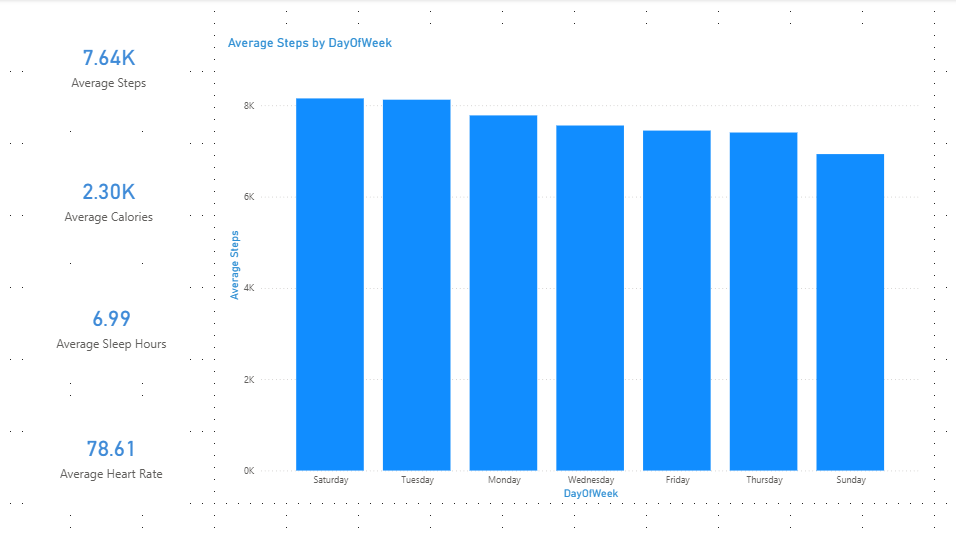

What the dashboard file says about the page in this screenshot:
{"tool":"powerbi","page":{"name":"Overview","canvas":[1280,720],"ordinal":0},"visuals":[{"type":"card","fields":{"Values":["daily_activity_clean.Average Steps"]},"box":[40,11.2,215,152.5],"z":0},{"type":"card","fields":{"Values":["daily_activity_clean.Average Calories"]},"box":[40,187.5,215,155],"z":1000},{"type":"card","fields":{"Values":["daily_activity_clean.Average Sleep Hours"]},"box":[46.2,360,208.8,148.8],"z":2000},{"type":"card","fields":{"Values":["daily_activity_clean.Average Heart Rate"]},"box":[46.2,532.5,208.8,151.2],"z":3000},{"type":"clusteredColumnChart","fields":{"Category":["daily_activity_clean.DayOfWeek"],"Y":["daily_activity_clean.Average Steps"]},"box":[301.2,47.5,933.8,623.8],"z":4000}]}

Visuals, with their boxes in screenshot pixels (x1, y1, x2, y2), scaled from the page's 1280x720 canvas onto the 956x539 screenshot:
card - daily_activity_clean.Average Steps: bbox(30, 8, 190, 123)
card - daily_activity_clean.Average Calories: bbox(30, 140, 190, 256)
card - daily_activity_clean.Average Sleep Hours: bbox(35, 270, 190, 381)
card - daily_activity_clean.Average Heart Rate: bbox(35, 399, 190, 512)
clusteredColumnChart - daily_activity_clean.DayOfWeek x daily_activity_clean.Average Steps: bbox(225, 36, 922, 503)
